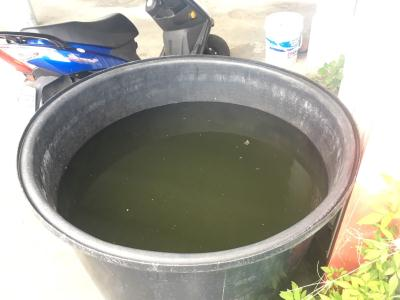bucket: (15, 52, 364, 298), (261, 8, 305, 74)
